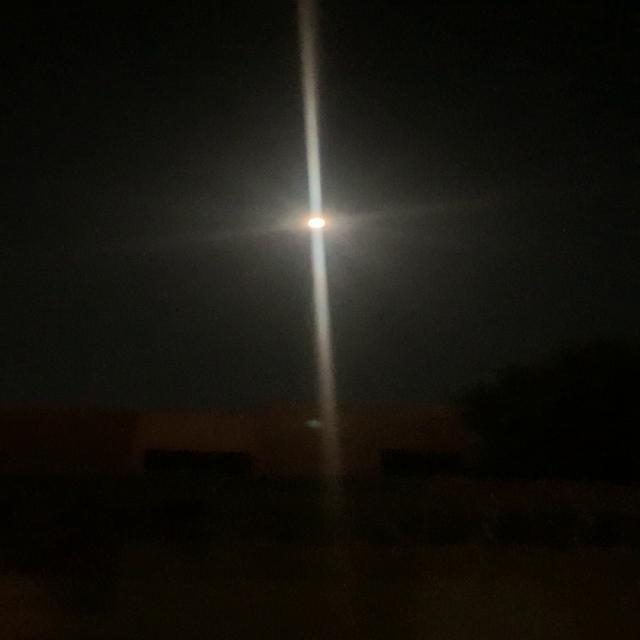moon: (286, 207, 348, 240)
